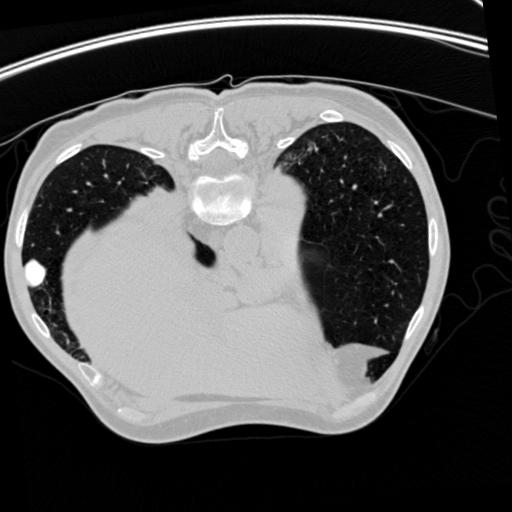nodule: (16, 258, 49, 291)
